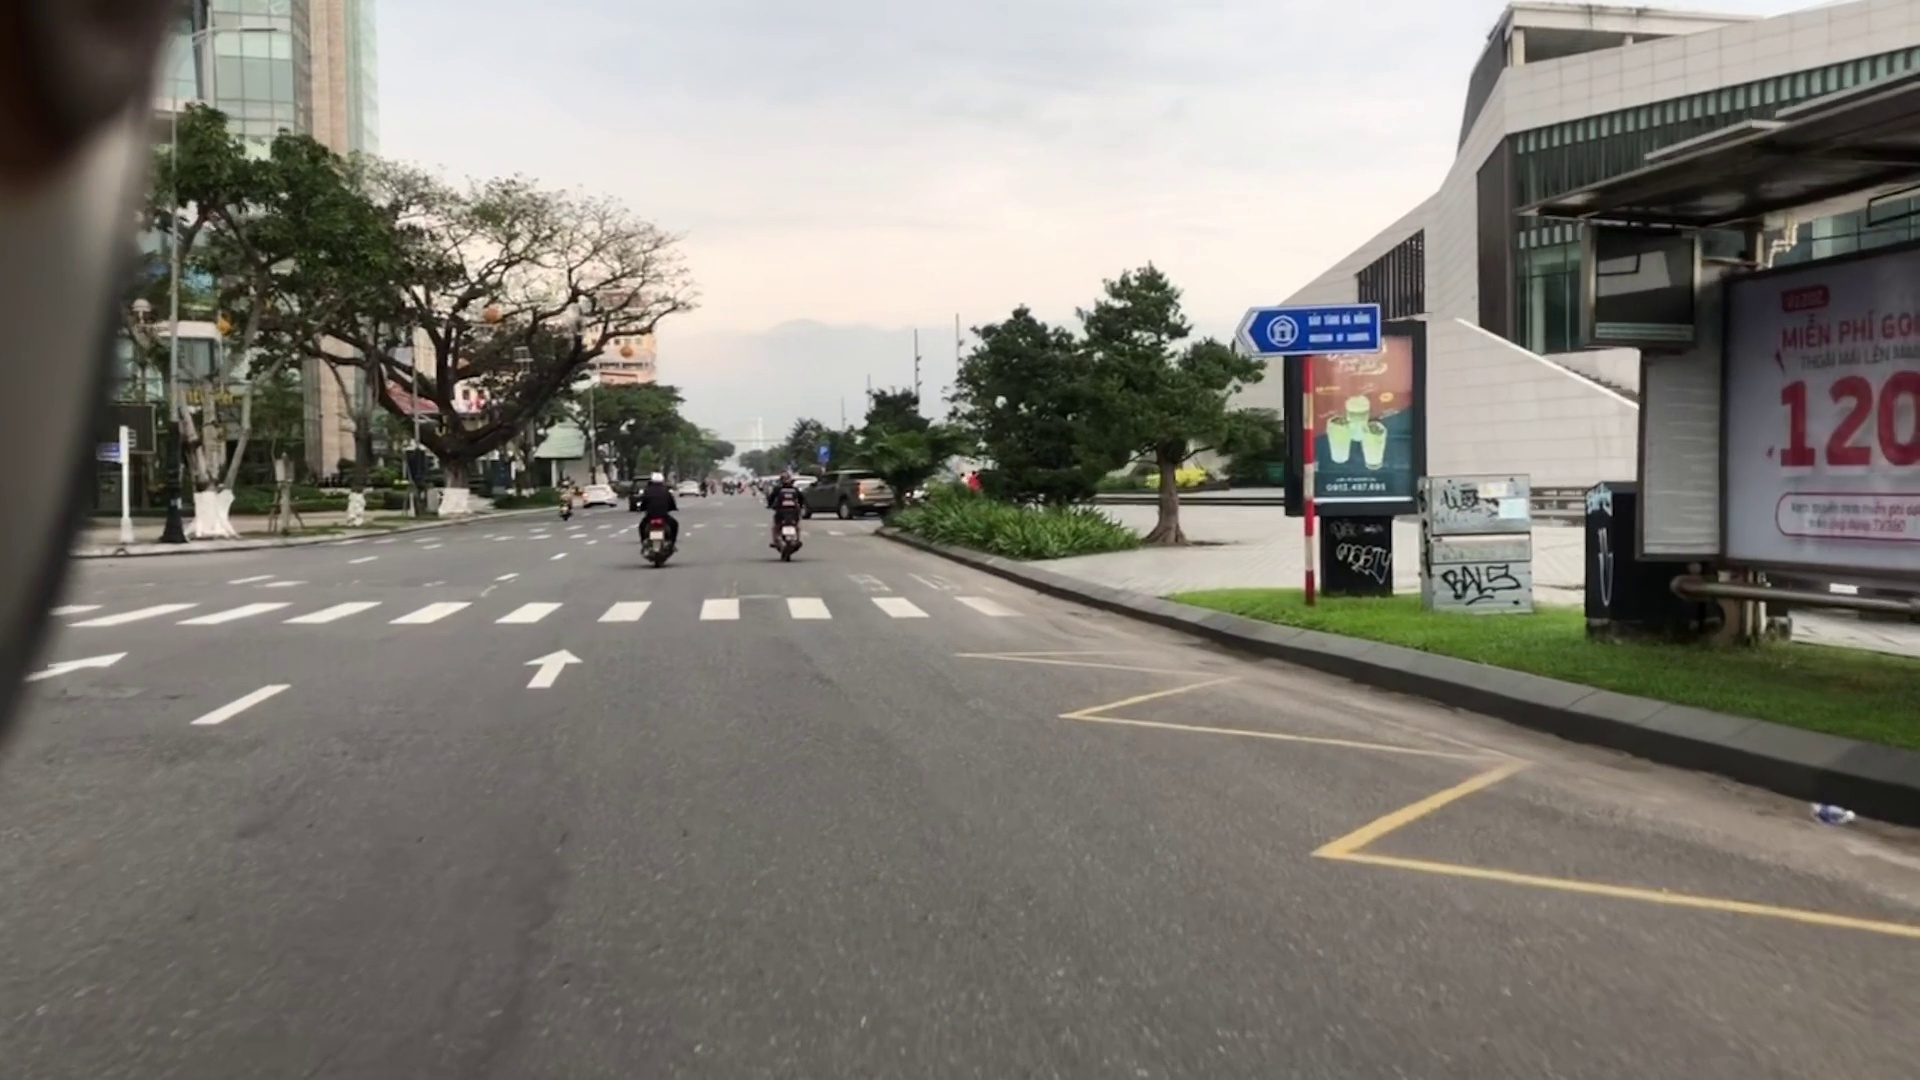Bien khac: (818, 440, 829, 462)
